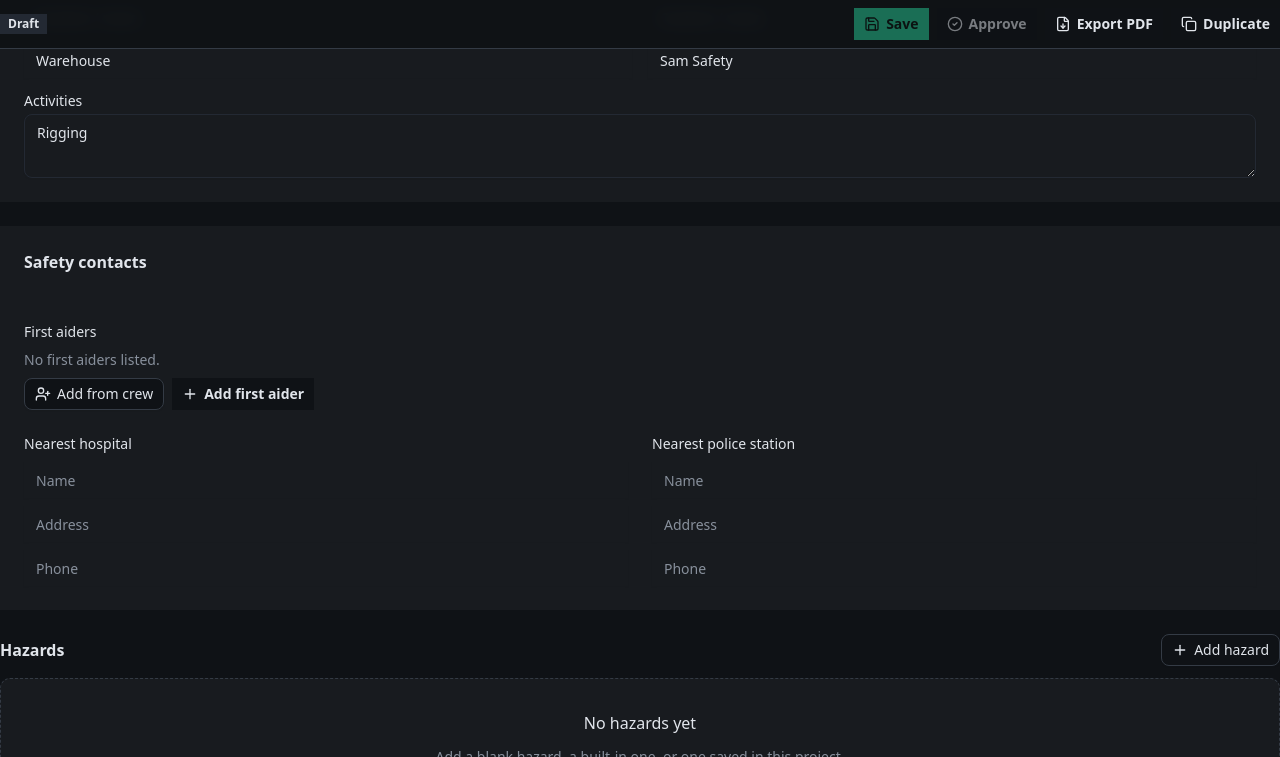
RiskAssessmentEditorPage › requires a hazard name before saving
(page scrolled)
Expected: the field showing "Warehouse" is shown, [24, 42, 632, 78]
What coordinates should you click on to do the following:
click the button "Add hazard"
I would click on:
 (1221, 650)
Its box is [1161, 634, 1279, 666].
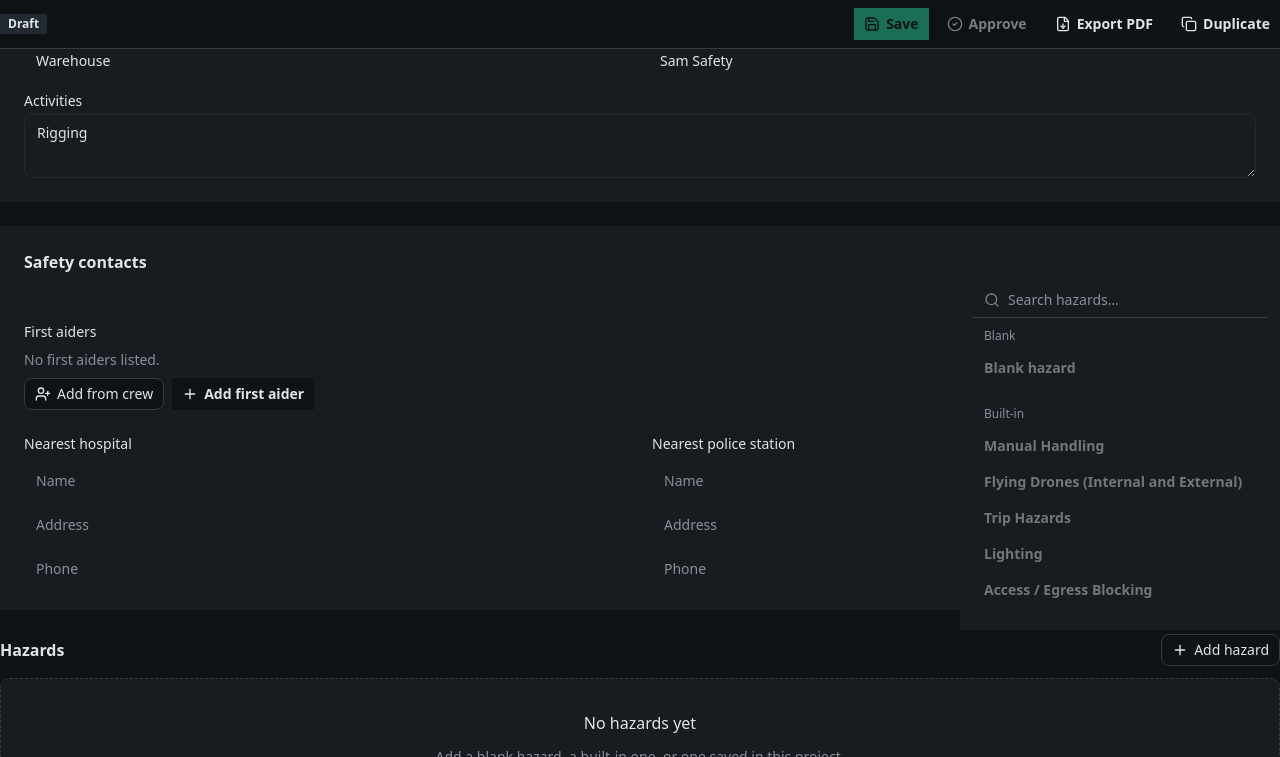
What coordinates should you click on to do the following:
click the option "Blank hazard"
I would click on:
 (1030, 368)
Its box is [984, 358, 1076, 377].
(page scrolled)
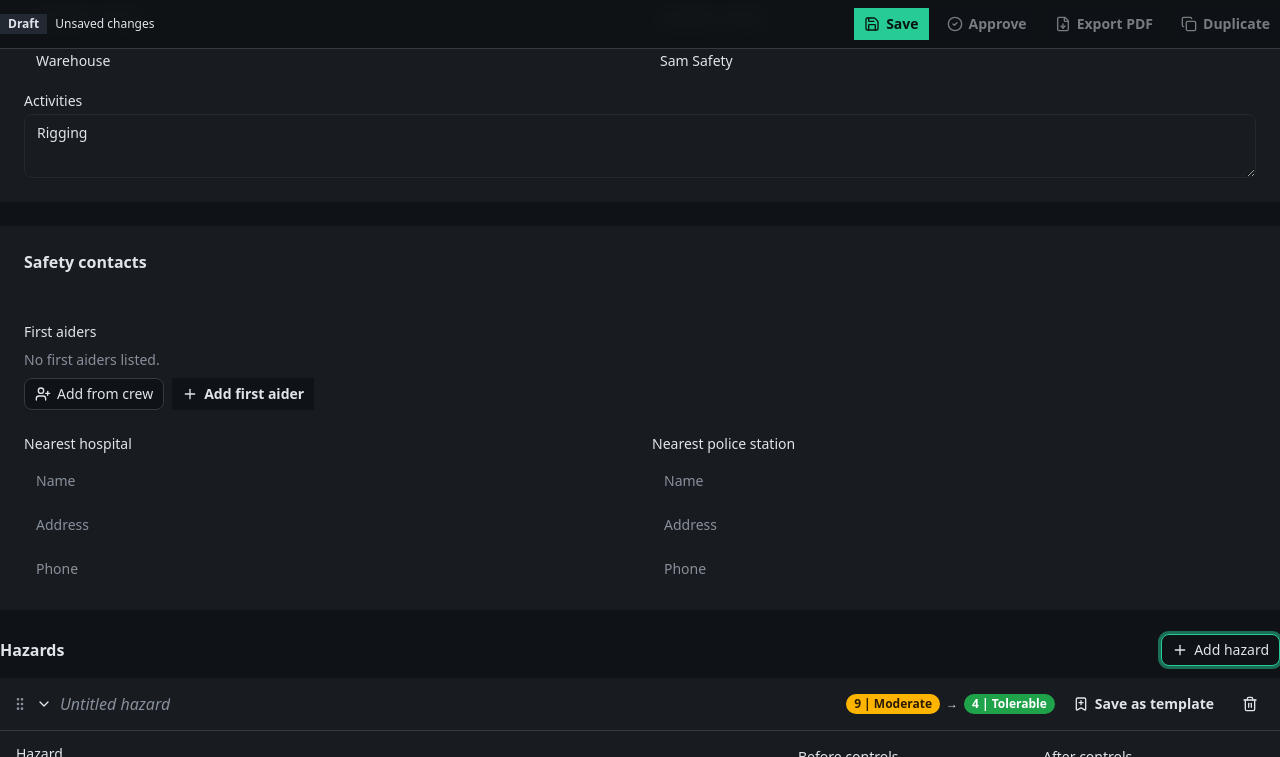
What coordinates should you click on to do the following:
click the button "Save"
I would click on:
 (891, 24)
Its box is [854, 8, 928, 40].
(page scrolled)
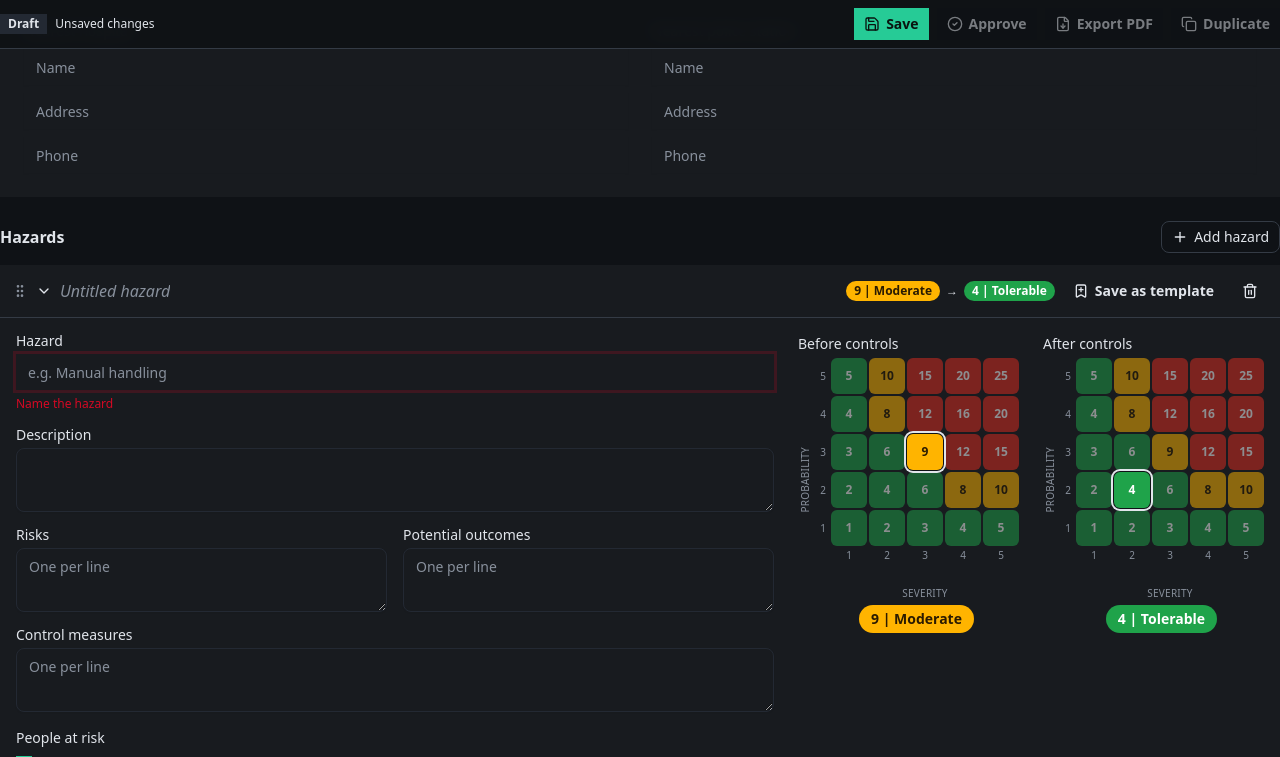
Now the text "Name the hazard" is shown, box [16, 395, 113, 412]
